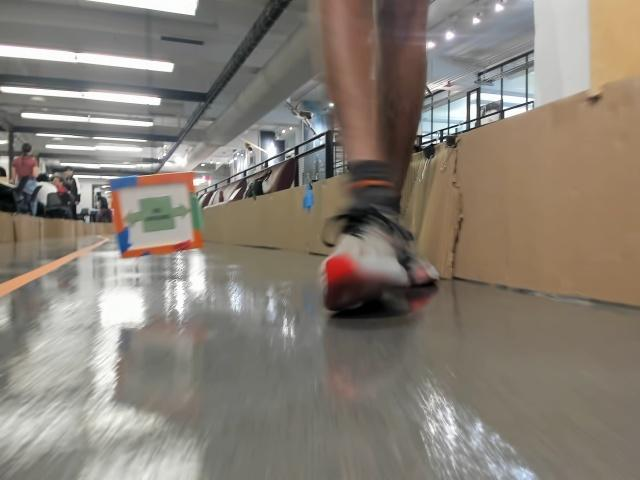Go Around: (122, 200, 186, 233)
